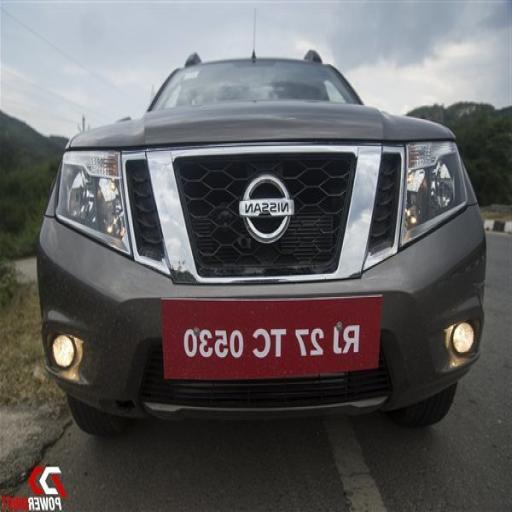License: (156, 289, 381, 385)
